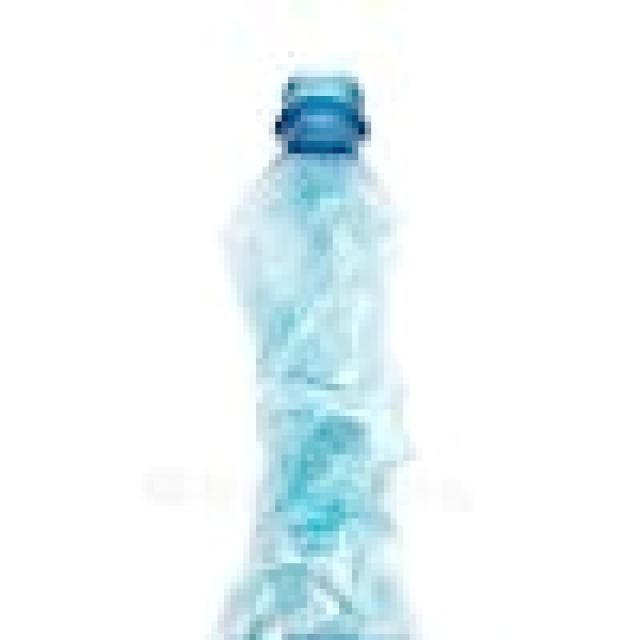BIODEGRADABLE: (184, 48, 454, 634)
